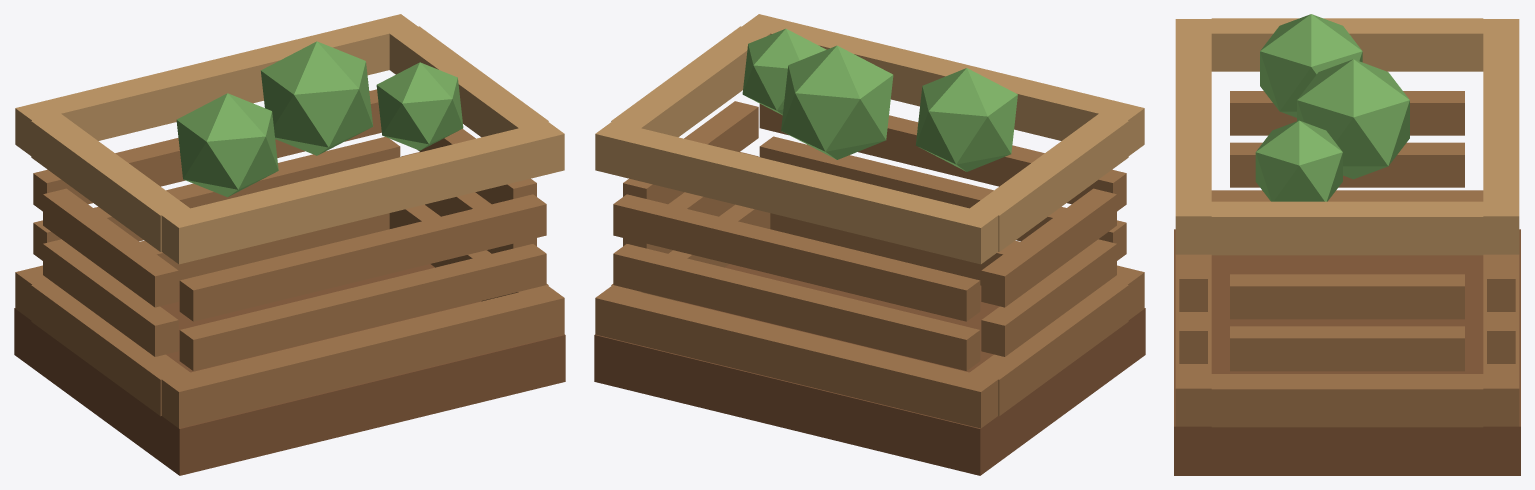
Rendered from pipeline_asset.glb.
3 renders of one model, left to right at view 1: azimuth 30°, elevation 25°; view 2: azimuth 150°, elevation 25°; view 3: azimuth 270°, elevation 25°, orthographic. The views are drawn at different scales.
Visible parts, largest first — view 1: Crate floor, Long side lower rail, Long side upper rail, Long side slat.001, Long side slat, Long side upper rail.001, Field produce.001, End upper rail, Field produce, End lower rail, End slat.001, End slat (+8 smaller); view 2: Crate floor, Long side lower rail.001, Long side upper rail.001, Long side slat.003, Long side slat.002, Long side upper rail, Field produce.001, End upper rail, Field produce, End lower rail, End upper rail.001, End slat.001 (+8 smaller); view 3: Crate floor, End upper rail.001, End lower rail.001, End slat.002, End slat.003, End upper rail, Field produce.001, Long side upper rail, Long side upper rail.001, Field produce, Field produce.002, End slat (+8 smaller).
Boxes of the visible parts, x1=… form: Crate floor: x1=14, y1=264, x2=565, y2=475; Long side lower rail: x1=161, y1=285, x2=564, y2=428; Long side upper rail: x1=161, y1=121, x2=564, y2=264; Long side slat.001: x1=179, y1=194, x2=546, y2=321; Long side slat: x1=179, y1=244, x2=546, y2=370; Long side upper rail.001: x1=15, y1=14, x2=417, y2=155; Field produce.001: x1=260, y1=41, x2=373, y2=155; End upper rail: x1=31, y1=114, x2=189, y2=251; Field produce: x1=176, y1=93, x2=278, y2=197; End lower rail: x1=31, y1=280, x2=189, y2=416; End slat.001: x1=43, y1=188, x2=178, y2=307; End slat: x1=43, y1=239, x2=178, y2=356; Crate floor: x1=594, y1=264, x2=1145, y2=475; Long side lower rail.001: x1=595, y1=285, x2=998, y2=428; Long side upper rail.001: x1=595, y1=121, x2=998, y2=264; Long side slat.003: x1=613, y1=194, x2=980, y2=321; Long side slat.002: x1=613, y1=244, x2=980, y2=370; Long side upper rail: x1=742, y1=14, x2=1144, y2=155; Field produce.001: x1=781, y1=45, x2=893, y2=159; End upper rail: x1=970, y1=114, x2=1128, y2=251; Field produce: x1=915, y1=68, x2=1017, y2=171; End lower rail: x1=970, y1=280, x2=1128, y2=416; End upper rail.001: x1=611, y1=26, x2=770, y2=137; End slat.001: x1=981, y1=188, x2=1116, y2=307; Crate floor: x1=1174, y1=229, x2=1520, y2=475; End upper rail.001: x1=1211, y1=201, x2=1483, y2=255; End lower rail.001: x1=1211, y1=374, x2=1483, y2=427; End slat.002: x1=1230, y1=326, x2=1464, y2=371; End slat.003: x1=1230, y1=274, x2=1464, y2=319; End upper rail: x1=1211, y1=18, x2=1483, y2=71; Field produce.001: x1=1297, y1=59, x2=1409, y2=179; Long side upper rail: x1=1175, y1=19, x2=1211, y2=254; Long side upper rail.001: x1=1483, y1=19, x2=1519, y2=254; Field produce: x1=1260, y1=14, x2=1362, y2=117; Field produce.002: x1=1255, y1=120, x2=1342, y2=201; End slat: x1=1230, y1=142, x2=1464, y2=187.
Bounding box in the file's own units: 1.56 × 1.22 × 1.15.
